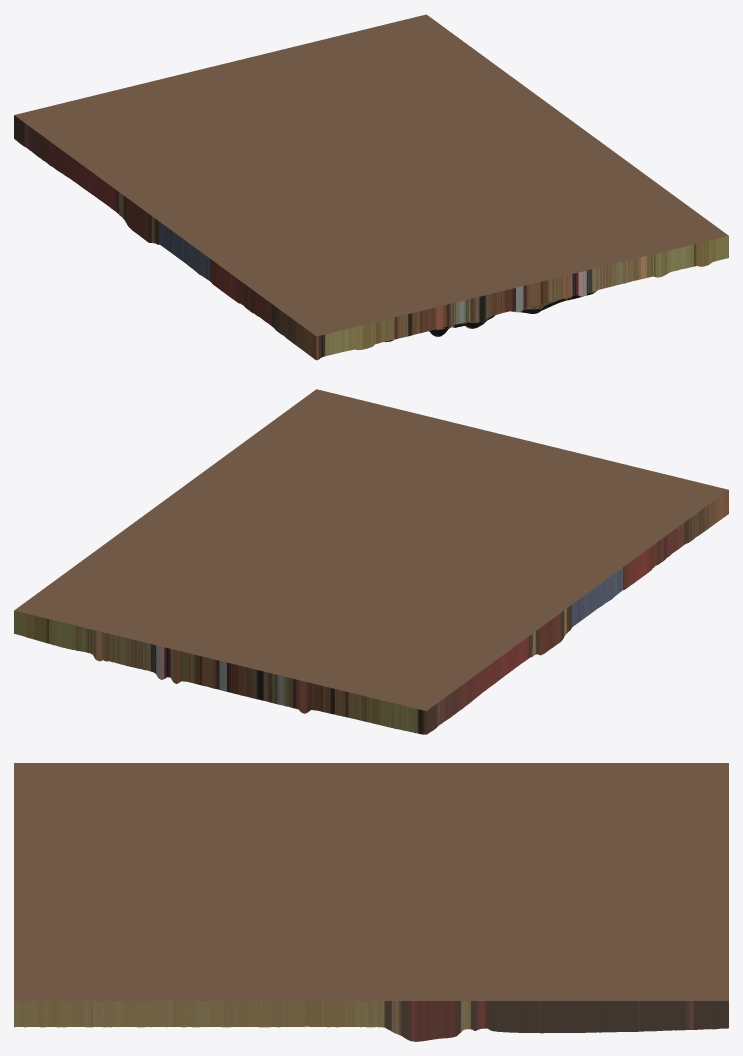
File: the-weeping-woman.glb
3 renders of one model, top to bottom at view 1: azimuth 30°, elevation 25°; view 2: azimuth 150°, elevation 25°; view 3: azimuth 270°, elevation 25°, orthographic. The views are drawn at different scales.
Parts seen in each view (by area): view 1: Relief Sculpture.stl; view 2: Relief Sculpture.stl; view 3: Relief Sculpture.stl.
Boxes of the visible parts, box(x1,y1,x2,y2) form: Relief Sculpture.stl: box(14, 14, 728, 360); Relief Sculpture.stl: box(14, 389, 728, 734); Relief Sculpture.stl: box(14, 763, 728, 1041).
Bounding box in the file's own units: 100 × 14.99 × 127.
1 material, 1 textured.
